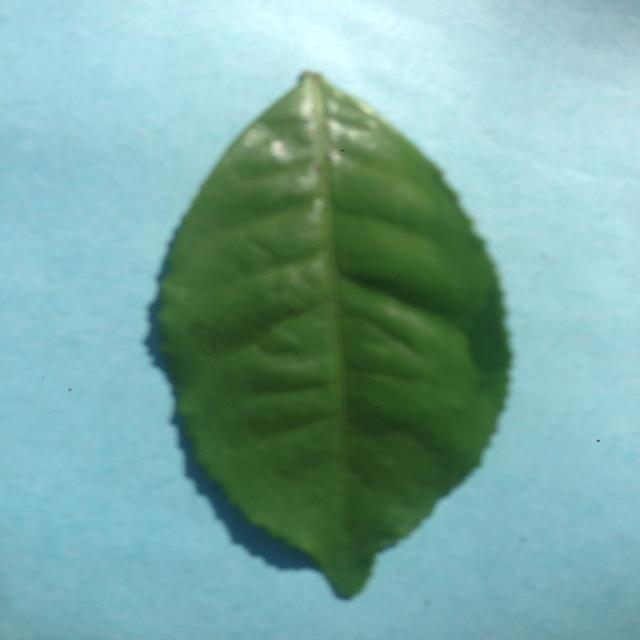Healthy: (148, 55, 523, 603)
